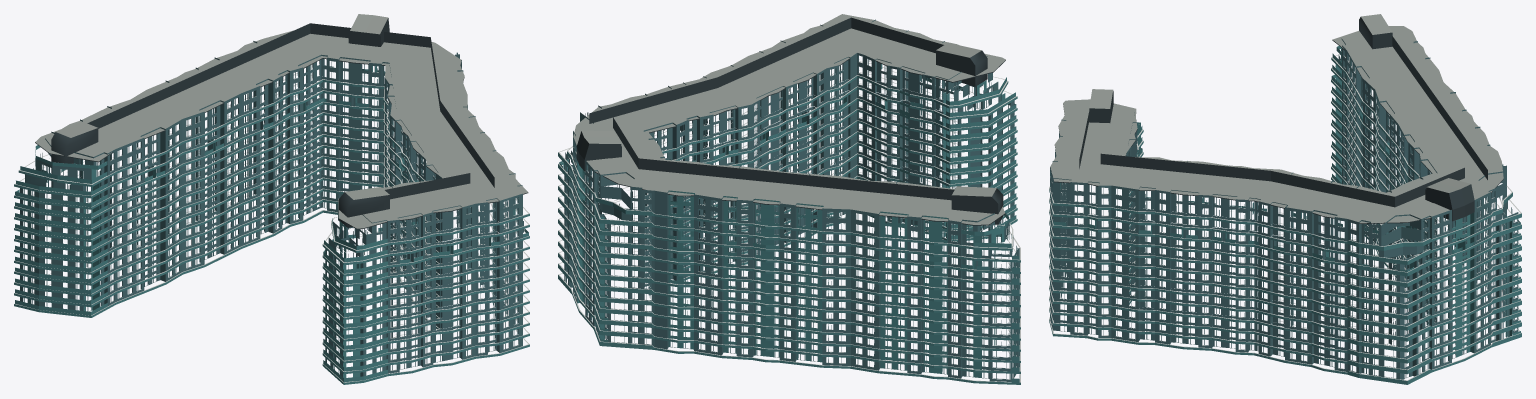
The picture shows the model from 3 angles, left to right: view 1: azimuth 30°, elevation 25°; view 2: azimuth 150°, elevation 25°; view 3: azimuth 270°, elevation 25°; orthographic projection. The views are drawn at different scales.
Parts seen in each view (by area): view 1: oasis3:polySurface27458:PIV; view 2: oasis3:polySurface27458:PIV; view 3: oasis3:polySurface27458:PIV.
Part boxes in pixels (x1,y1,x2,y2): oasis3:polySurface27458:PIV: [14, 14, 529, 384]; oasis3:polySurface27458:PIV: [558, 14, 1020, 384]; oasis3:polySurface27458:PIV: [1049, 14, 1521, 384].
Size of the model in its own units: 706 by 258 by 649.
